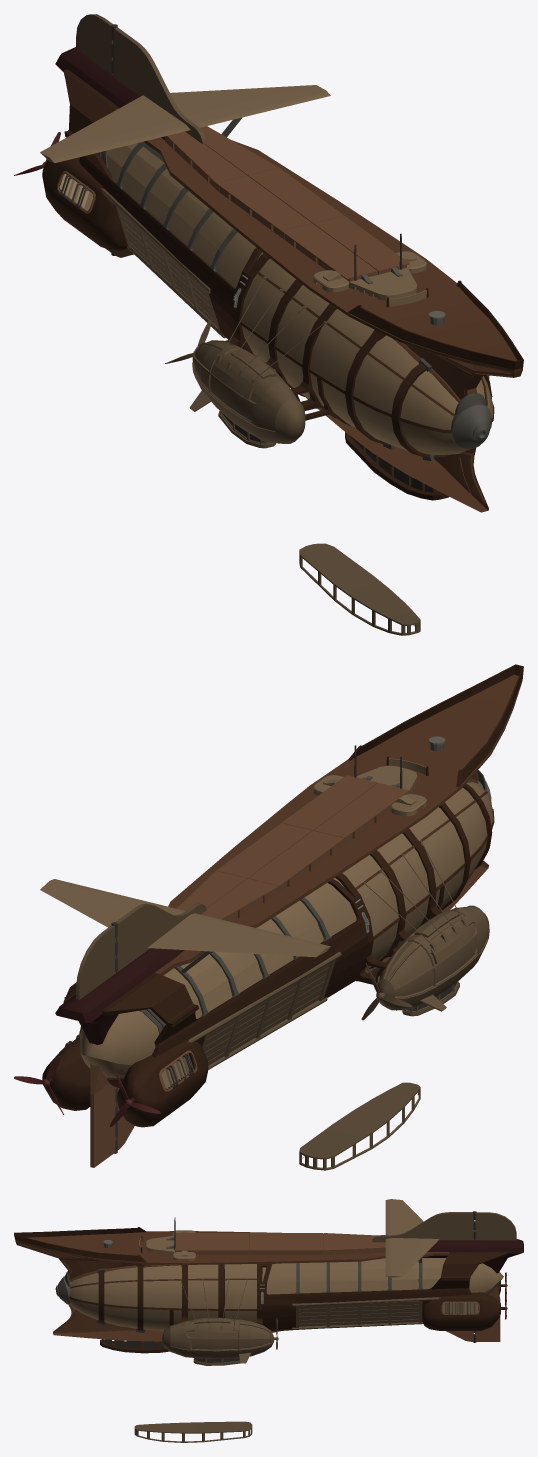
The model's file is steampunk-carrier.glb.
The picture shows the model from 3 angles, top to bottom: view 1: azimuth 30°, elevation 25°; view 2: azimuth 150°, elevation 25°; view 3: azimuth 270°, elevation 25°; orthographic projection. The views are drawn at different scales.
Visible parts, largest first — view 1: polySurface315, polySurface404, pCube155, polySurface274, polySurface407, polySurface249, polySurface248, polySurface354, polySurface418, pCube158, polySurface461, polySurface406 (+7 smaller); view 2: polySurface315, polySurface404, polySurface274, pCube155, polySurface407, polySurface249, pCube158, polySurface248, polySurface354, polySurface461, polySurface423, polySurface406 (+5 smaller); view 3: polySurface315, polySurface274, polySurface404, pCube155, polySurface407, pCube158, polySurface248, polySurface249, polySurface434, polySurface418, polySurface354, polySurface406 (+9 smaller).
Boxes of the visible parts, box(x1,y1,x2,y2) form: polySurface315: box(106, 143, 493, 455); polySurface404: box(115, 109, 522, 402); pCube155: box(165, 126, 409, 281); polySurface274: box(63, 69, 492, 457); polySurface407: box(165, 276, 489, 448); polySurface249: box(40, 85, 330, 163); polySurface248: box(76, 14, 206, 144); polySurface354: box(299, 543, 420, 635); polySurface418: box(306, 397, 488, 512); pCube158: box(100, 188, 225, 338); polySurface461: box(42, 157, 127, 251); polySurface406: box(348, 280, 523, 369); polySurface315: box(80, 782, 493, 1078); polySurface404: box(154, 674, 522, 975); polySurface274: box(63, 783, 492, 1087); pCube155: box(177, 775, 409, 921); polySurface407: box(361, 840, 489, 1020); polySurface249: box(40, 879, 330, 957); pCube158: box(188, 952, 341, 1069); polySurface248: box(76, 903, 206, 999); polySurface354: box(299, 1082, 420, 1170); polySurface461: box(117, 1040, 208, 1127); polySurface423: box(55, 948, 184, 1045); polySurface406: box(348, 664, 523, 787); polySurface315: box(70, 1258, 503, 1331); polySurface274: box(98, 1251, 508, 1331); polySurface404: box(15, 1231, 448, 1282); pCube155: box(175, 1233, 385, 1255); polySurface407: box(162, 1278, 278, 1365); pCube158: box(292, 1297, 440, 1329); polySurface248: box(372, 1212, 516, 1242); polySurface249: box(385, 1199, 439, 1277); polySurface434: box(423, 1292, 500, 1330); polySurface418: box(53, 1304, 280, 1341); polySurface354: box(134, 1421, 252, 1442); polySurface406: box(14, 1227, 146, 1262).
Bounding box in the file's own units: 4.23 × 5.82 × 11.89.
